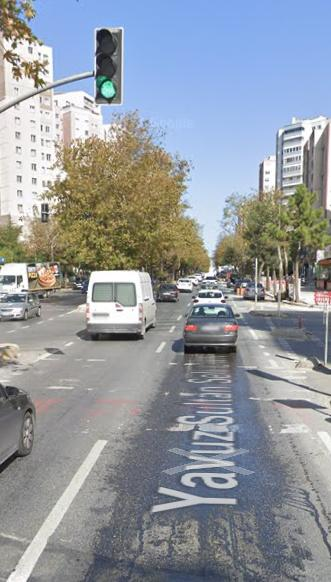greenlight: (96, 27, 119, 105)
